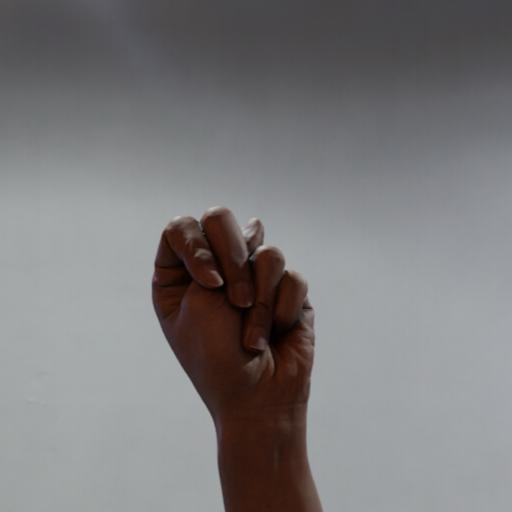N: (140, 189, 335, 446)
